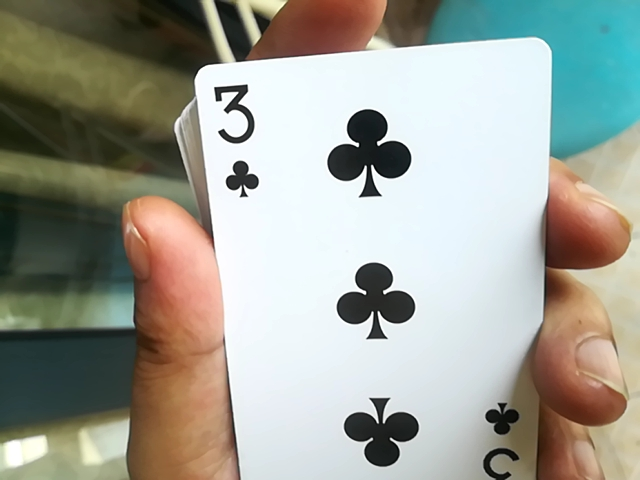mh 3: (185, 37, 550, 475)
